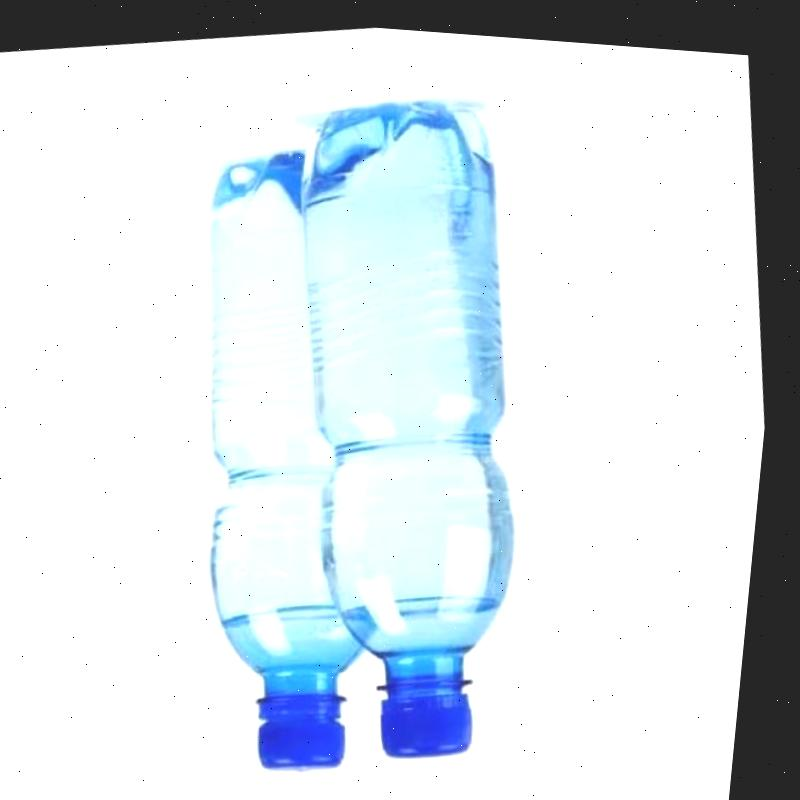botella: (249, 68, 592, 771), (148, 137, 425, 781)
